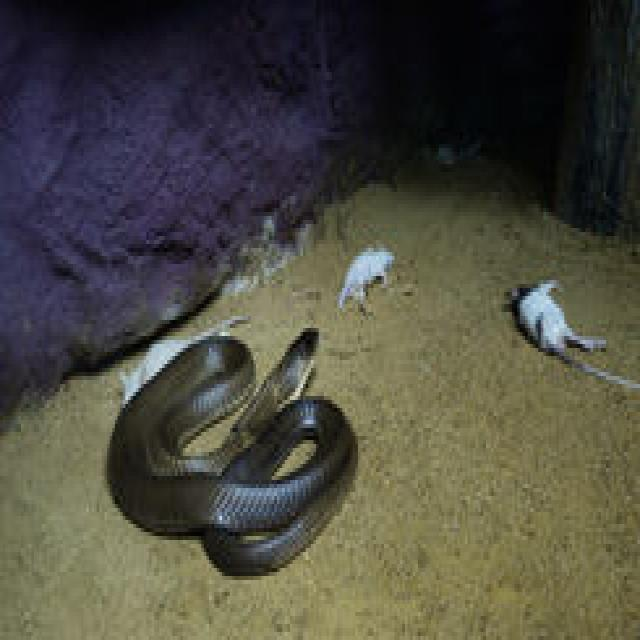Snake: (104, 320, 358, 576)
